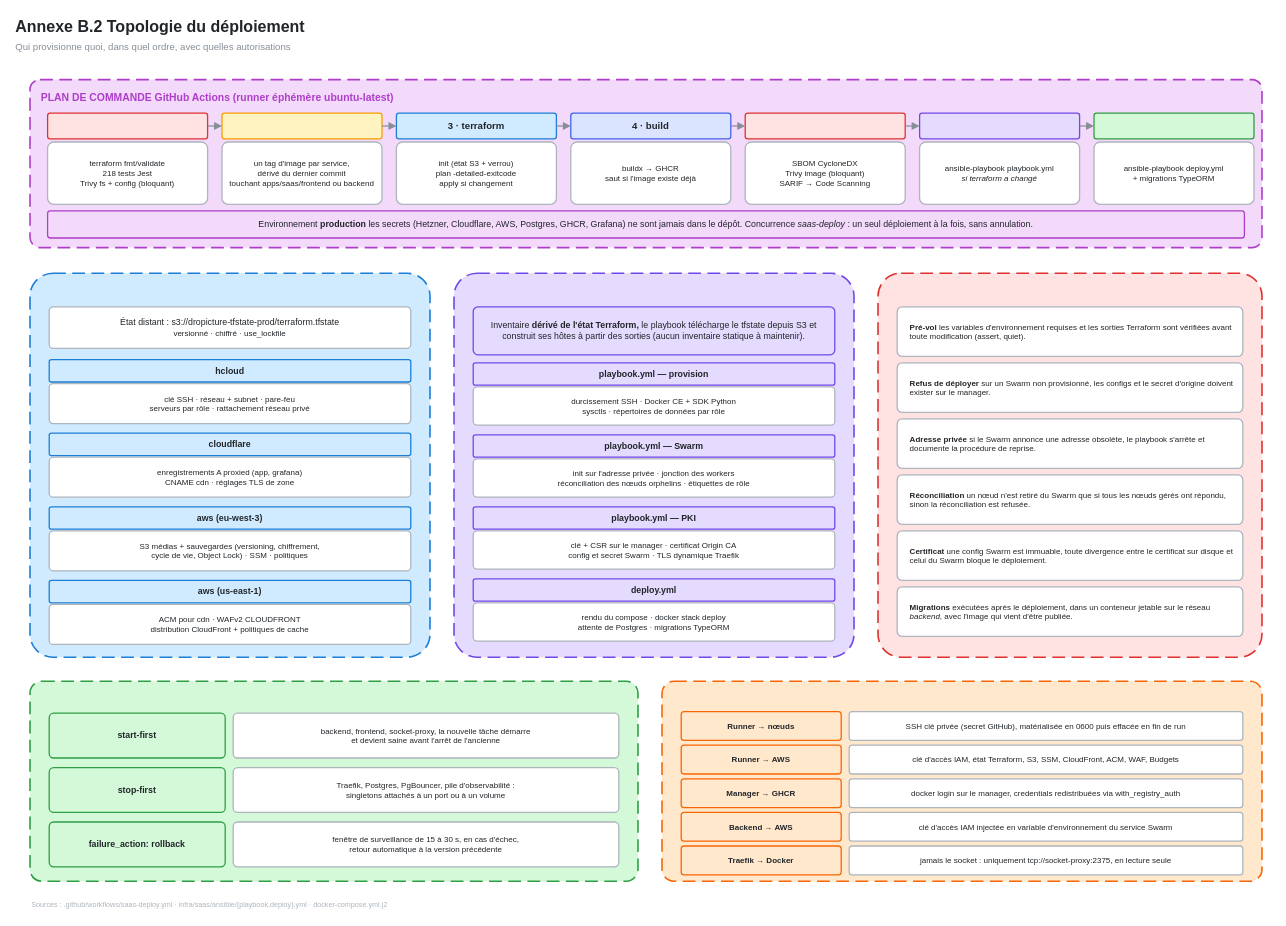
Some shapes in this 1286 by 926 pixel diagram are drawn without their labels. Here are the shapes that lost their labels. From the top down, the box of each, then its label:
(47, 112, 208, 139): 1 · checks
(221, 112, 382, 139): 2 · versions
(744, 112, 905, 139): 5 · scan
(919, 112, 1080, 139): 6 · provision
(1093, 112, 1254, 139): 7 · deploy
(29, 272, 430, 658): TERRAFORM provisionnement déclaratif
(453, 272, 854, 658): ANSIBLE configuration idempotente
(877, 272, 1262, 658): GARDE-FOUS
(29, 680, 638, 882): MISE À JOUR SANS INTERRUPTION
(661, 680, 1262, 882): CHEMINS D'ACCÈS PRIVILÉGIÉS
